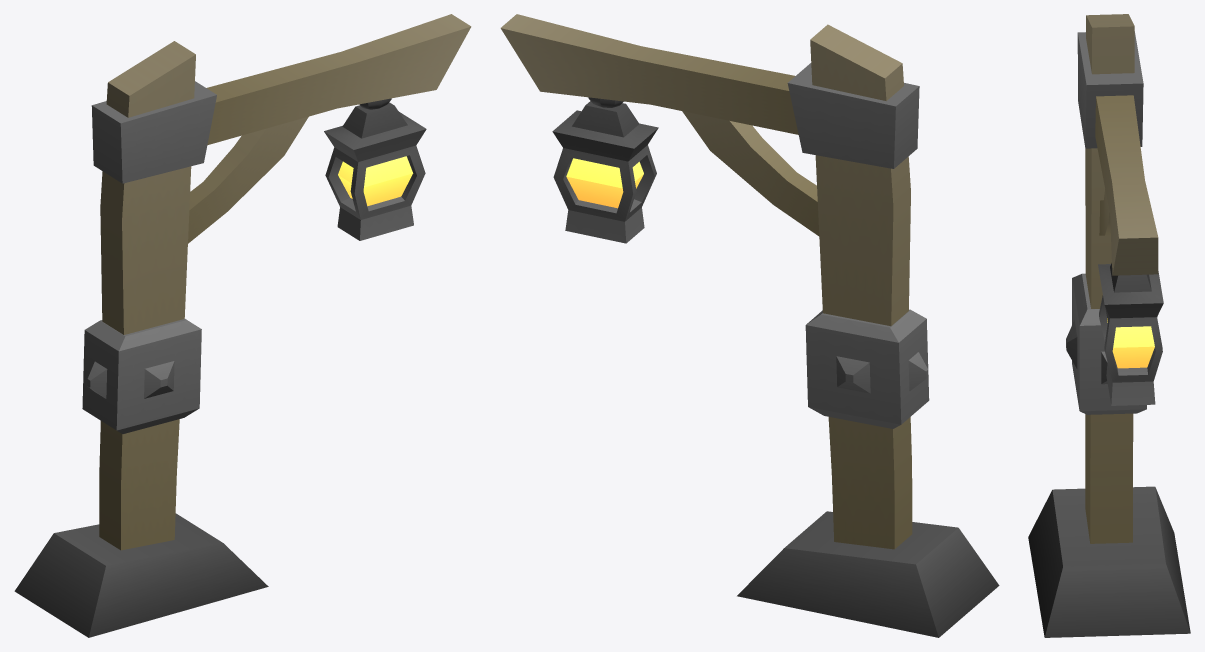
The model's file is lamp.003.002_lev1.glb.
The picture shows the model from 3 angles, left to right: view 1: azimuth 30°, elevation 25°; view 2: azimuth 150°, elevation 25°; view 3: azimuth 270°, elevation 25°; orthographic projection. The views are drawn at different scales.
Visible parts, largest first — view 1: lamp.003.002_lev1; view 2: lamp.003.002_lev1; view 3: lamp.003.002_lev1.
Boxes of the visible parts, x1,y1,x2,y2 form: lamp.003.002_lev1: (14, 14, 471, 637); lamp.003.002_lev1: (500, 14, 999, 637); lamp.003.002_lev1: (1028, 14, 1190, 637).
Bounding box in the file's own units: 20.13 × 23.56 × 5.96.
Materials: 1 (1 with a texture image).
